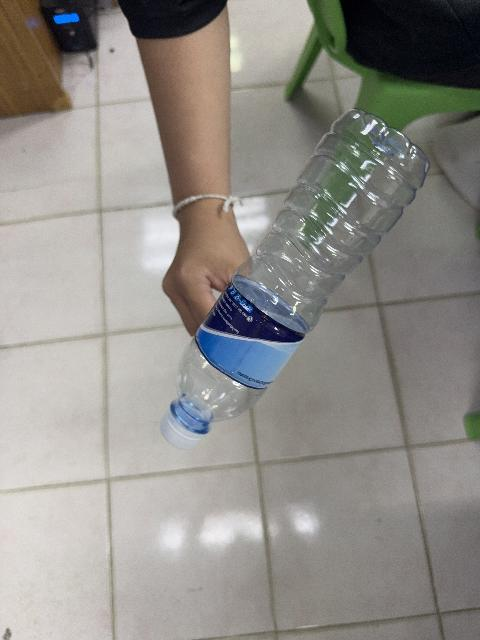bottle: (161, 110, 429, 448)
